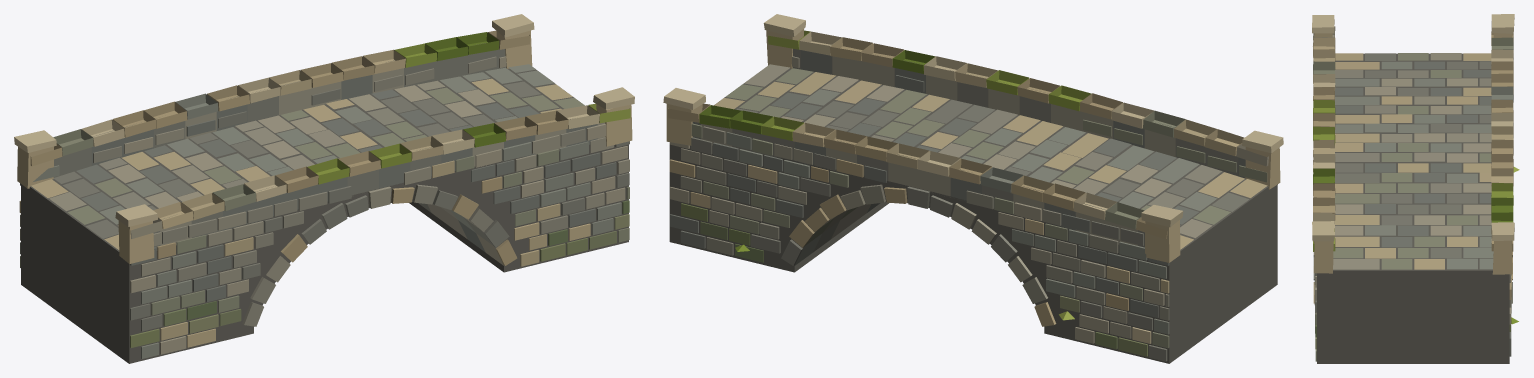
File: town_bridge.glb
3 views of the same model, side by side, from view 1: azimuth 30°, elevation 25°; view 2: azimuth 150°, elevation 25°; view 3: azimuth 270°, elevation 25° (orthographic). The views are drawn at different scales.
Parts seen in each view (by area): view 1: town_bridge; view 2: town_bridge; view 3: town_bridge.
Boxes of the visible parts, x1,y1,x2,y2 form: town_bridge: (14,14,634,363); town_bridge: (663,14,1283,363); town_bridge: (1312,14,1519,363).
Size of the model in its own units: 16.26 by 4.49 by 6.47.
